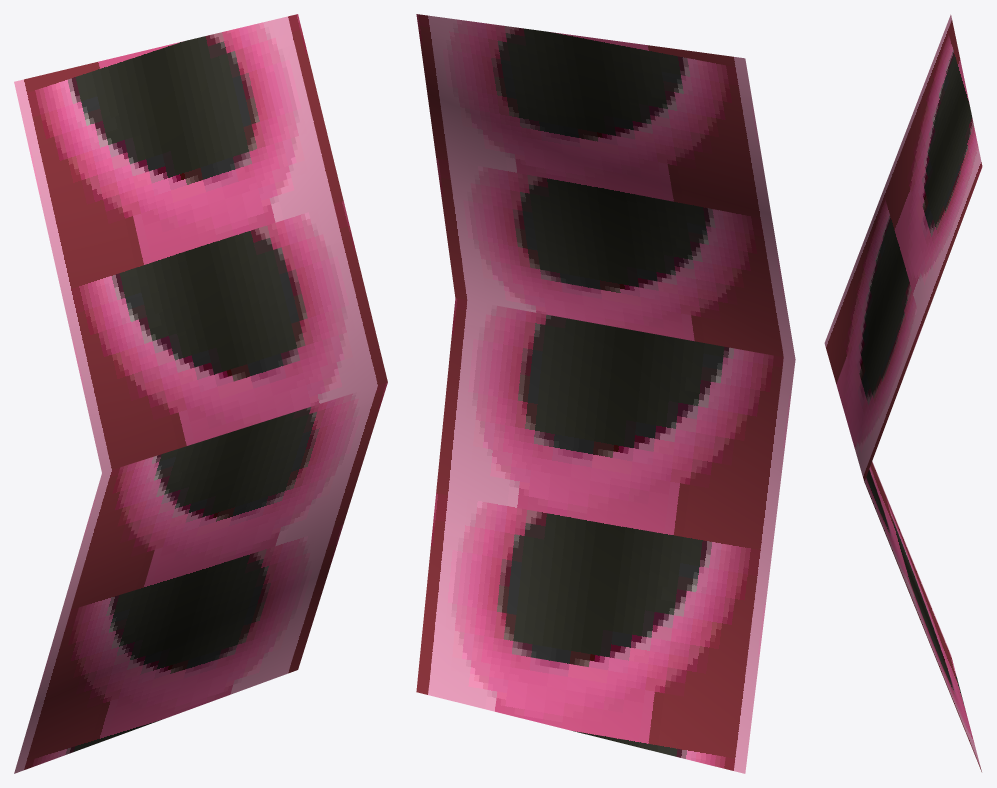
File: acc_shade_heart.dae
3 renders of one model, left to right at view 1: azimuth 30°, elevation 25°; view 2: azimuth 150°, elevation 25°; view 3: azimuth 270°, elevation 25°, orthographic. The views are drawn at different scales.
Parts seen in each view (by area): view 1: acc_shade_heart; view 2: acc_shade_heart; view 3: acc_shade_heart.
Boxes of the visible parts, left/top/right/bottom form: acc_shade_heart: left=14, top=14, right=387, bottom=773; acc_shade_heart: left=416, top=14, right=795, bottom=773; acc_shade_heart: left=824, top=14, right=982, bottom=771.
Bounding box in the file's own units: 10.47 × 21.17 × 4.73.
Materials: 1 (1 with a texture image).
